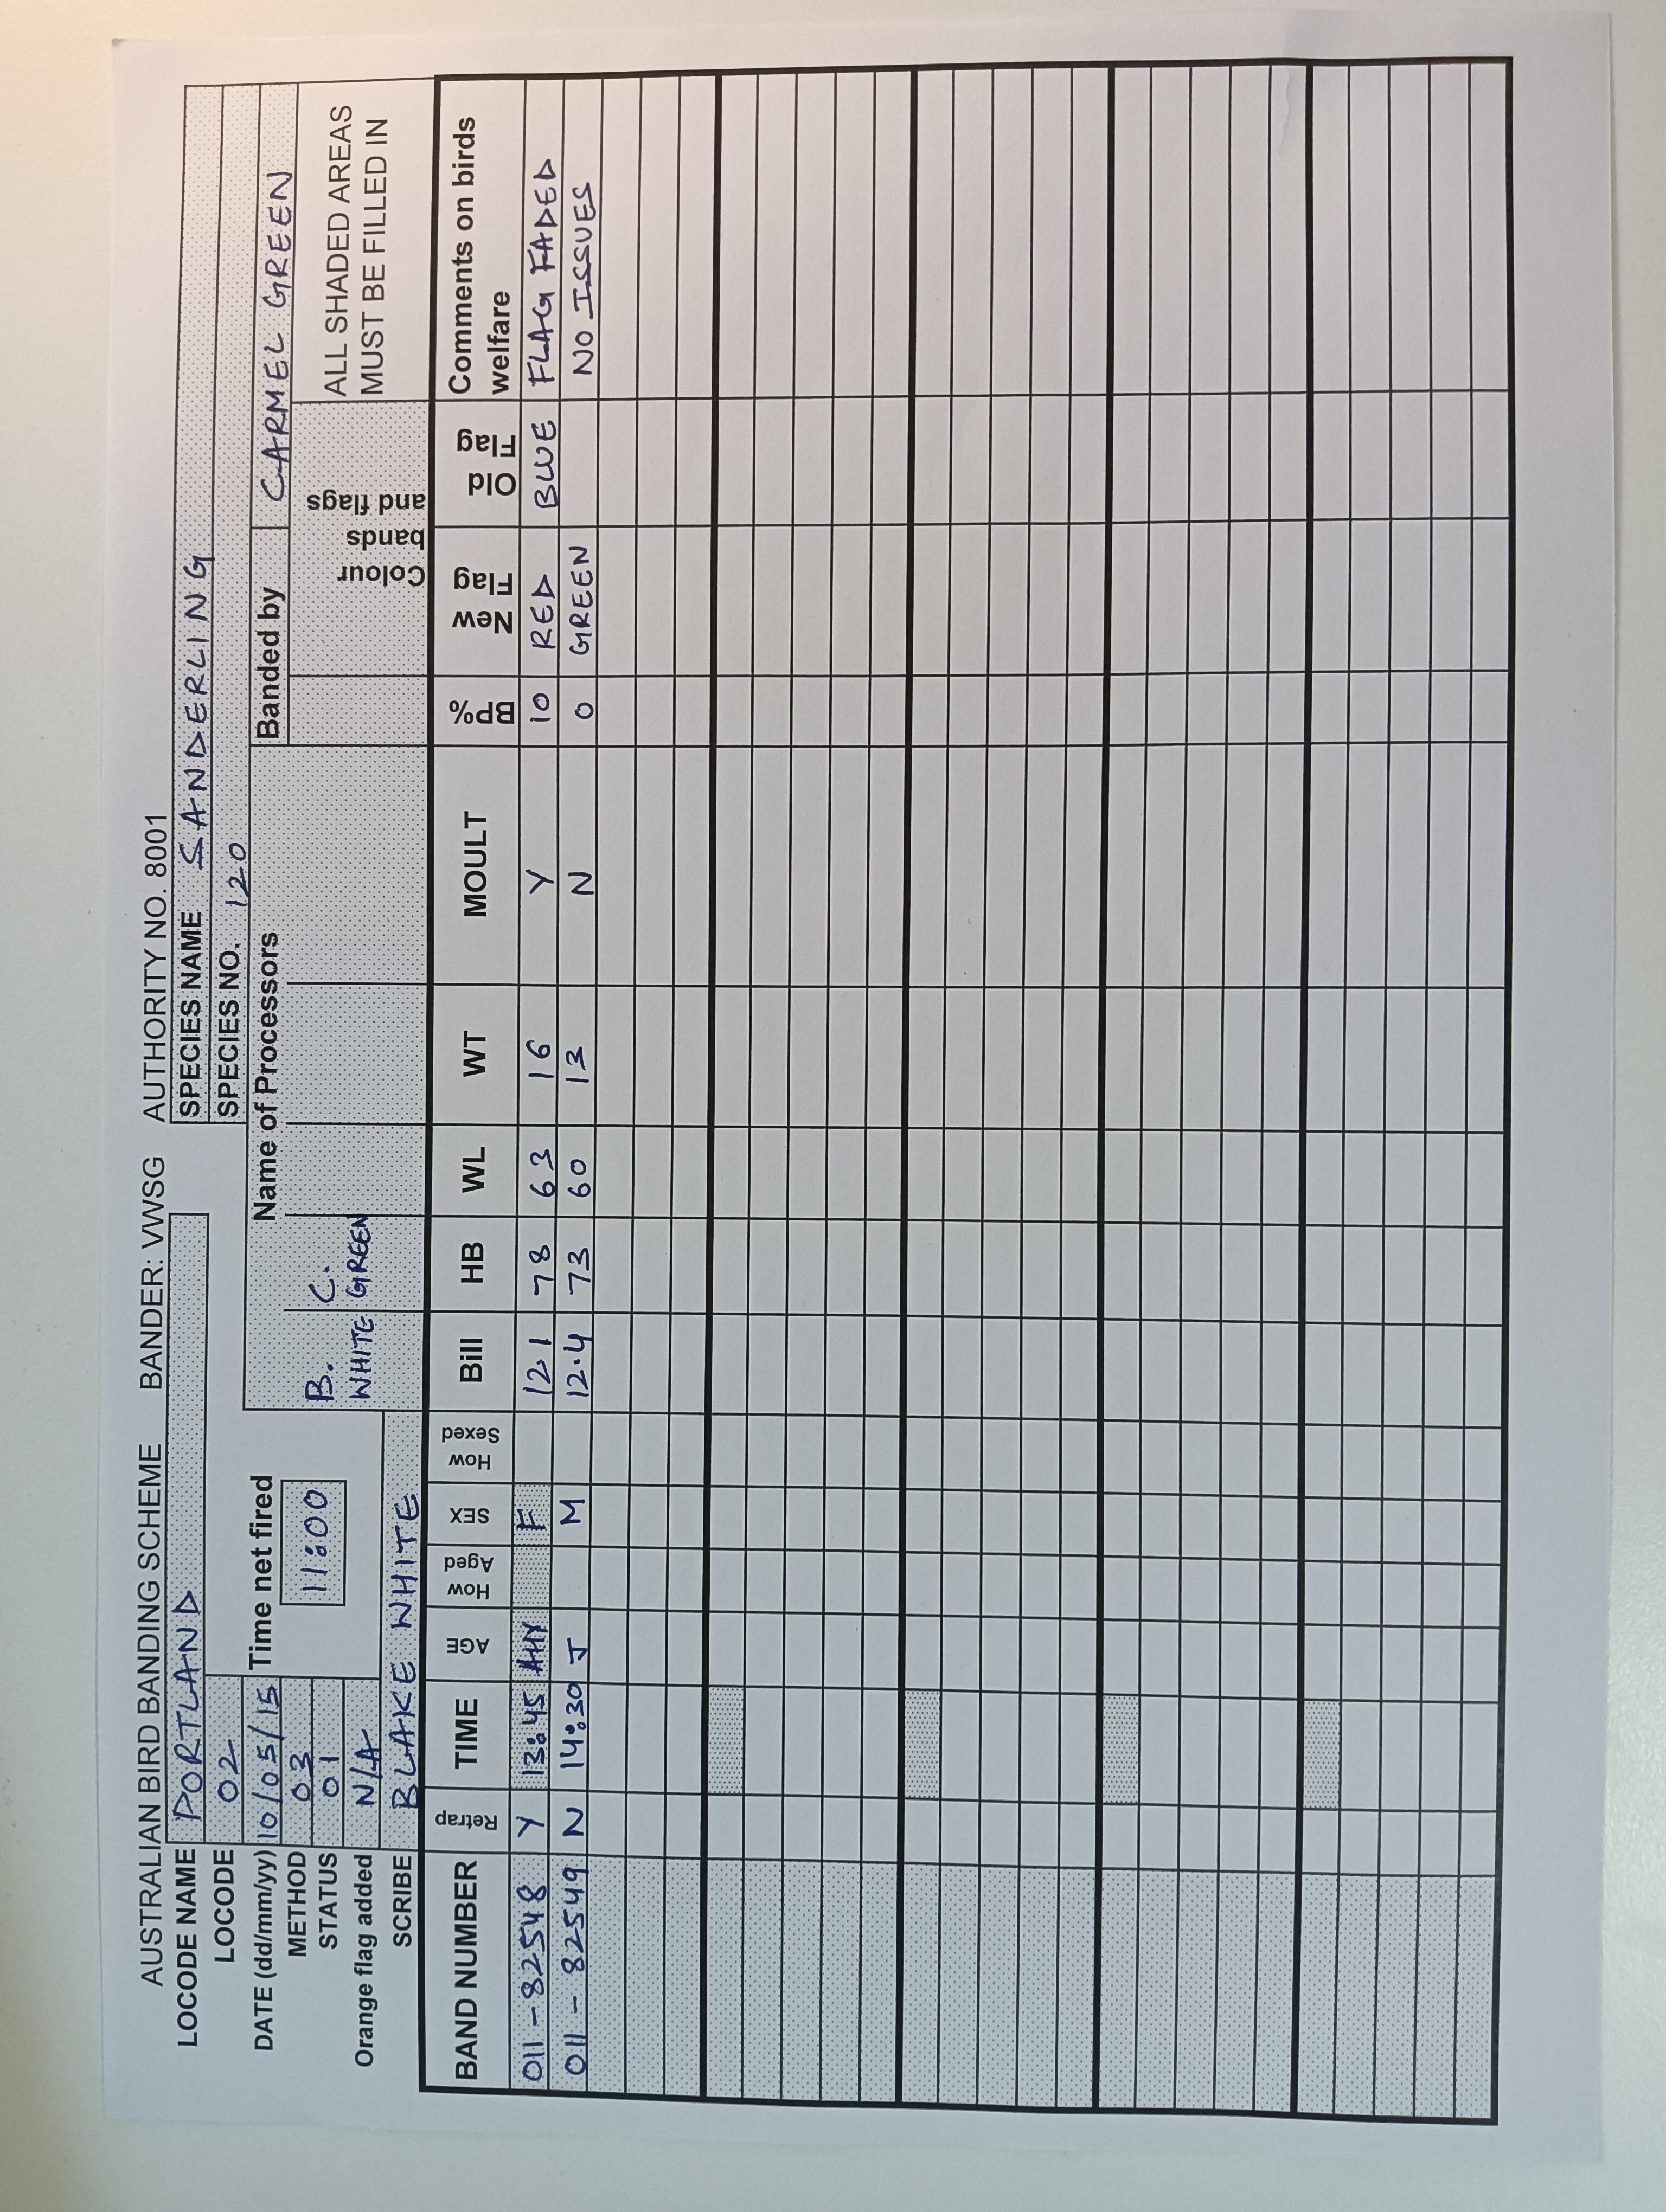BANDED_BY: (249, 84, 297, 745)
DATA: (550, 80, 604, 2095), (511, 75, 562, 2093)
DATE: (243, 1673, 283, 2058)
LOCOCODE: (208, 1675, 245, 1974)
LOCOCODE_NAME: (166, 1210, 210, 2060)
METHOD: (280, 1675, 313, 1976)
NAME_OF_PROCESSORS: (276, 1308, 411, 1411), (280, 1215, 408, 1313)
ORANGE_FLAG_ADDED: (341, 1677, 381, 2070)
SCRIBE: (381, 1409, 425, 1960)
SPECIES_NAME: (172, 82, 224, 1123)
SPECIES_NO: (208, 84, 259, 1121)
STATUS: (313, 1677, 345, 1958)
TIME_NET_FIRED: (229, 1436, 366, 1670)
